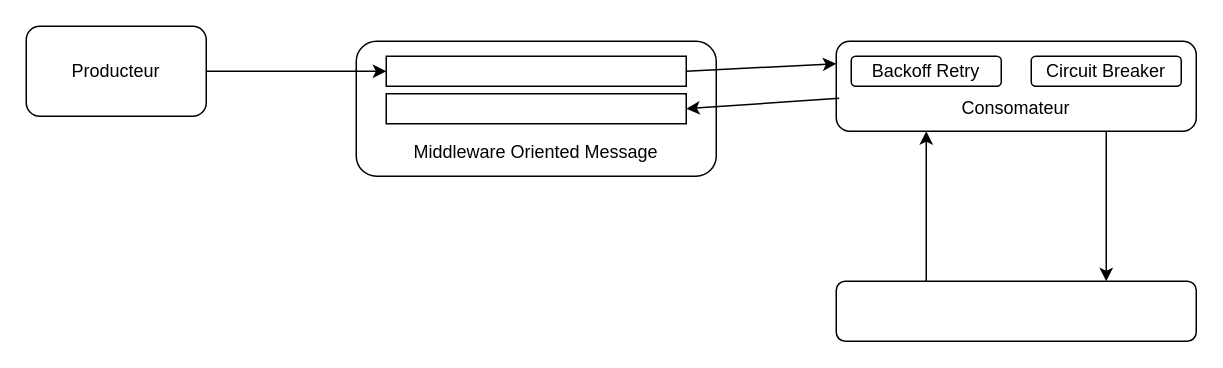
This 1223x368 diagram has some shape labels left out. Each missing label, with the centre of its shape:
"Dead Letter Queue" belongs at point 535,108.
"File d'attente principale" belongs at point 535,70.
"Service" belongs at point 1015,310.
